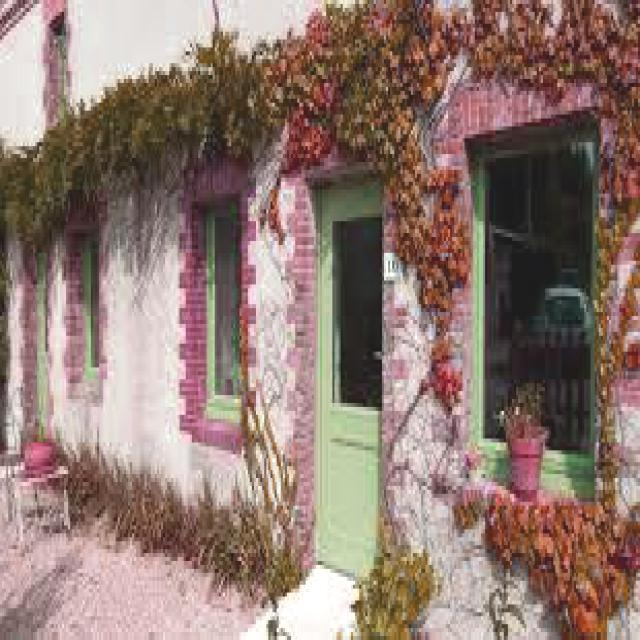door: (301, 144, 404, 610)
